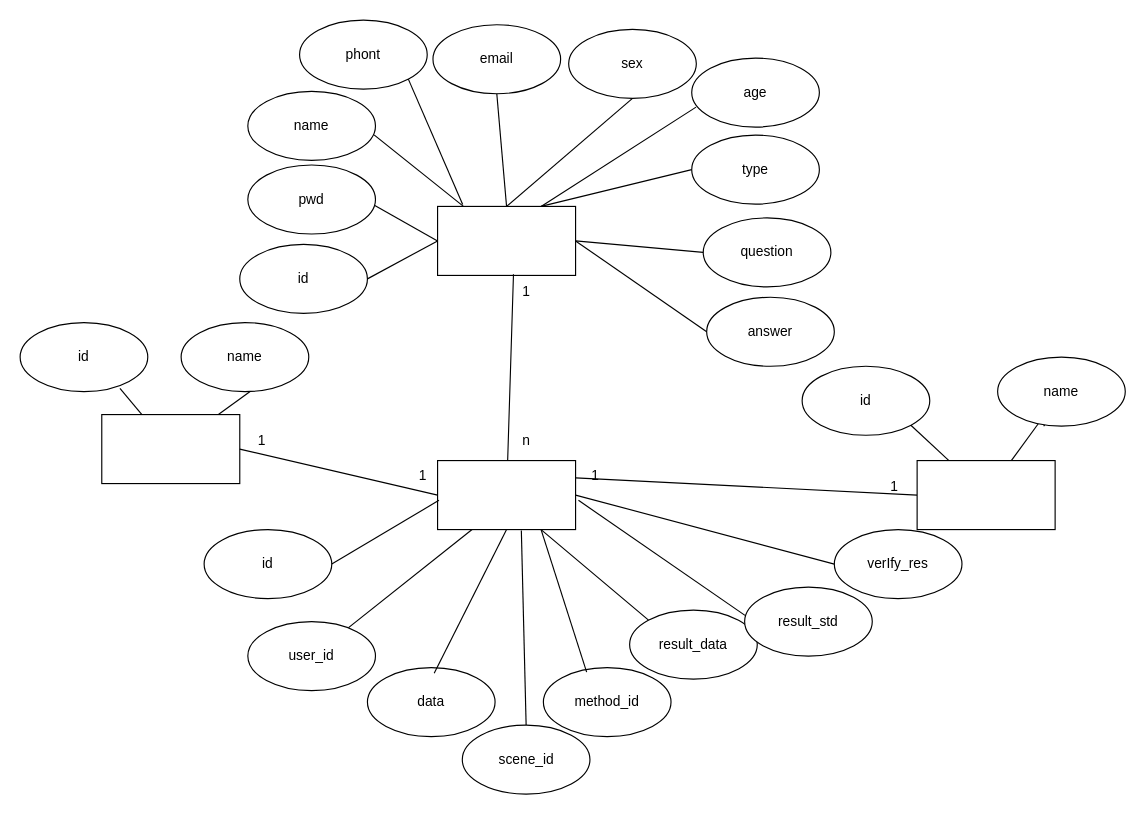
This 1145x814 diagram has some shape labels left out. Here are the shapes that lost their labels. From the top down, the centre of each, then its label:
At (x=506, y=240): "USER".
At (x=170, y=448): "METHOD".
At (x=506, y=494): "VERIFY".
At (x=985, y=494): "SCENE".
